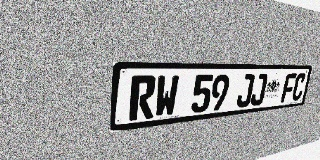5: (191, 75, 214, 113)
9: (209, 74, 230, 111)
C: (291, 73, 306, 101)
F: (280, 73, 297, 102)
J: (236, 74, 255, 108), (250, 74, 268, 106)
R: (129, 75, 156, 121)
W: (154, 75, 179, 118)
